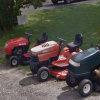Tractor: (7, 30, 100, 91)
